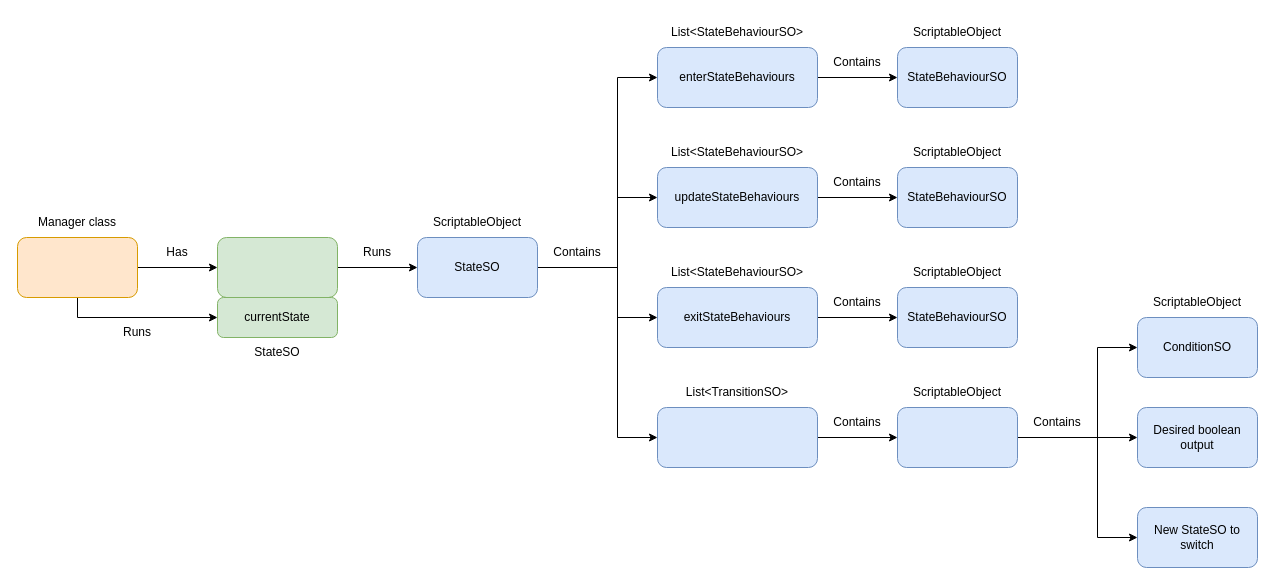
The diagram is 1275 pixels wide and 585 high, and some of its shapes have lost their labels. Here are the shapes that lost their labels. From the top down, the centre of each, then its label:
point (77, 267): StateManager
point (277, 267): StateMachine
point (737, 437): transitions
point (957, 437): TransitionSO
